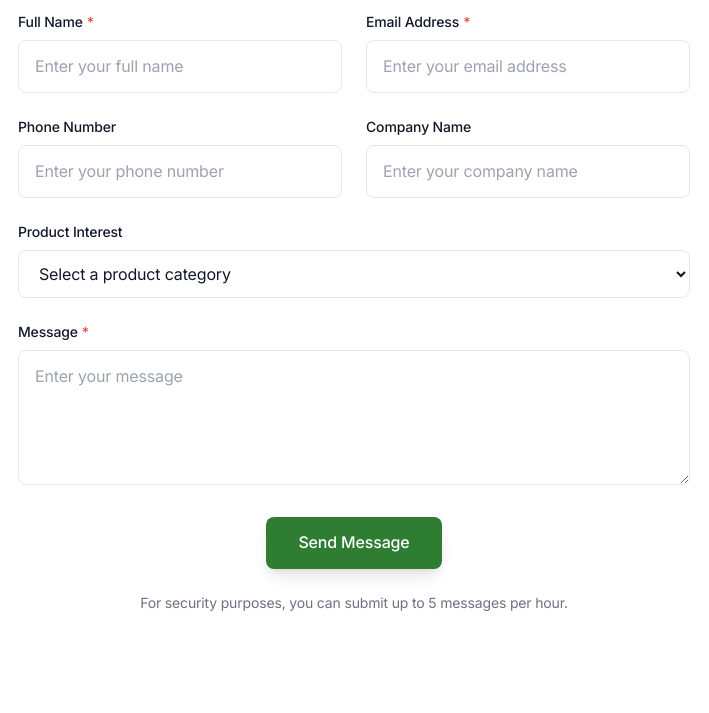
Scenario: ContactForm Component › shows error message on submission failure
Fill in required fields
Type "John Doe" into the field labelled "Full Name*" at (180, 67), box x1=18 y1=40 x2=342 y2=93
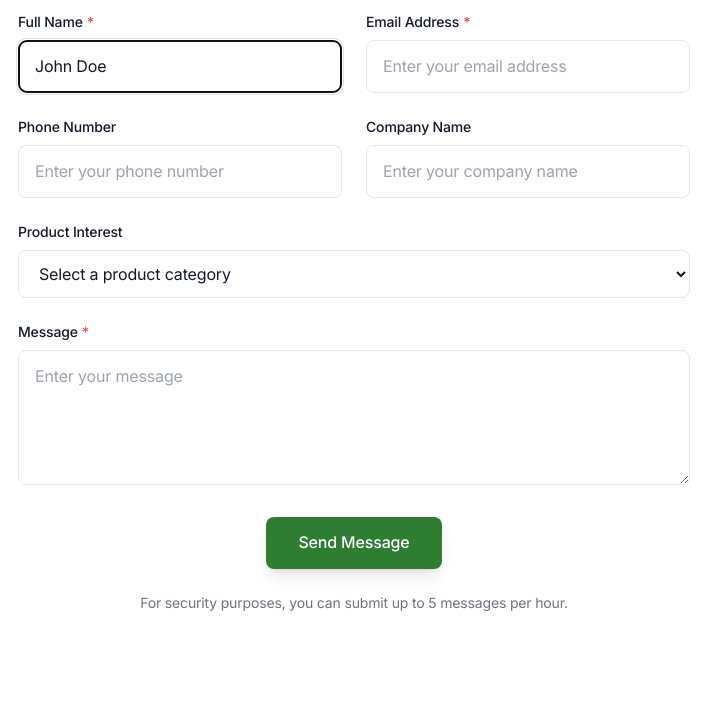
Type "john@example.com" into the field labelled "Email Address*" at (528, 67), box x1=366 y1=40 x2=690 y2=93
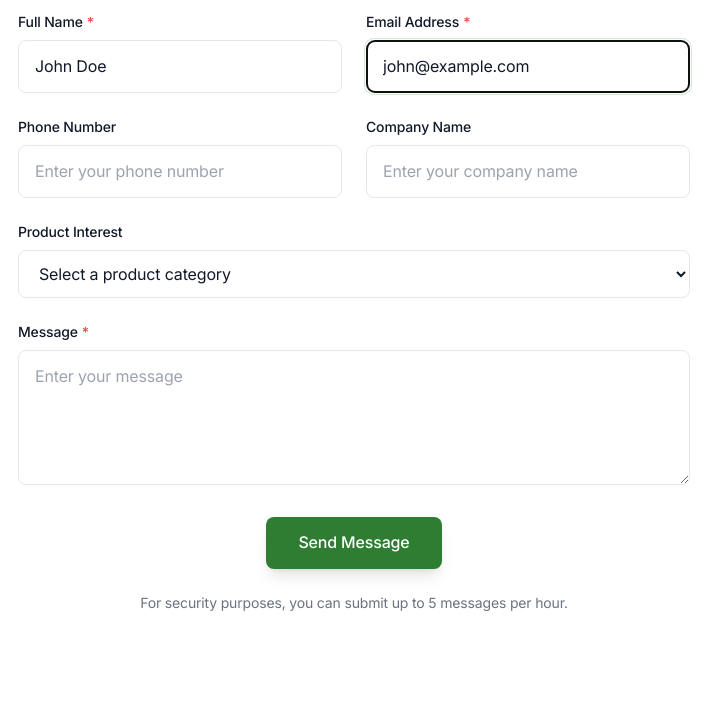
Type "This is a test message" into the text box labelled "Message*" at (354, 418), box x1=18 y1=350 x2=690 y2=485
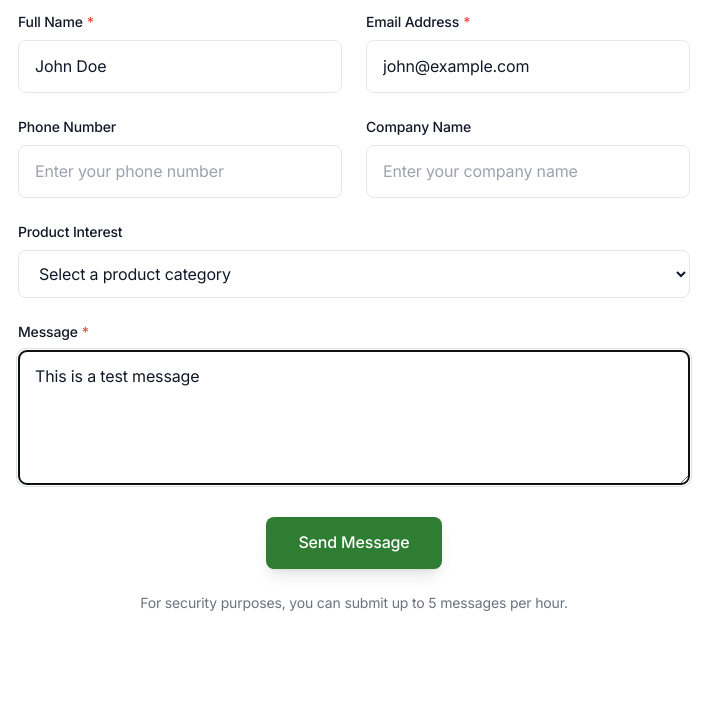
Submit form
Click the button "Send Message" at (354, 543), box x1=266 y1=517 x2=442 y2=568
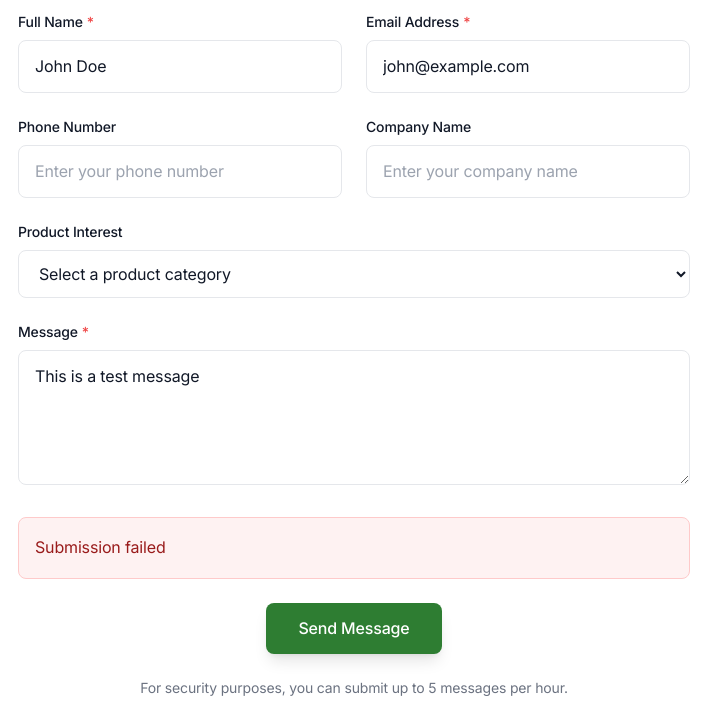
Check: the text "Submission failed" is shown, box x1=18 y1=517 x2=690 y2=578
